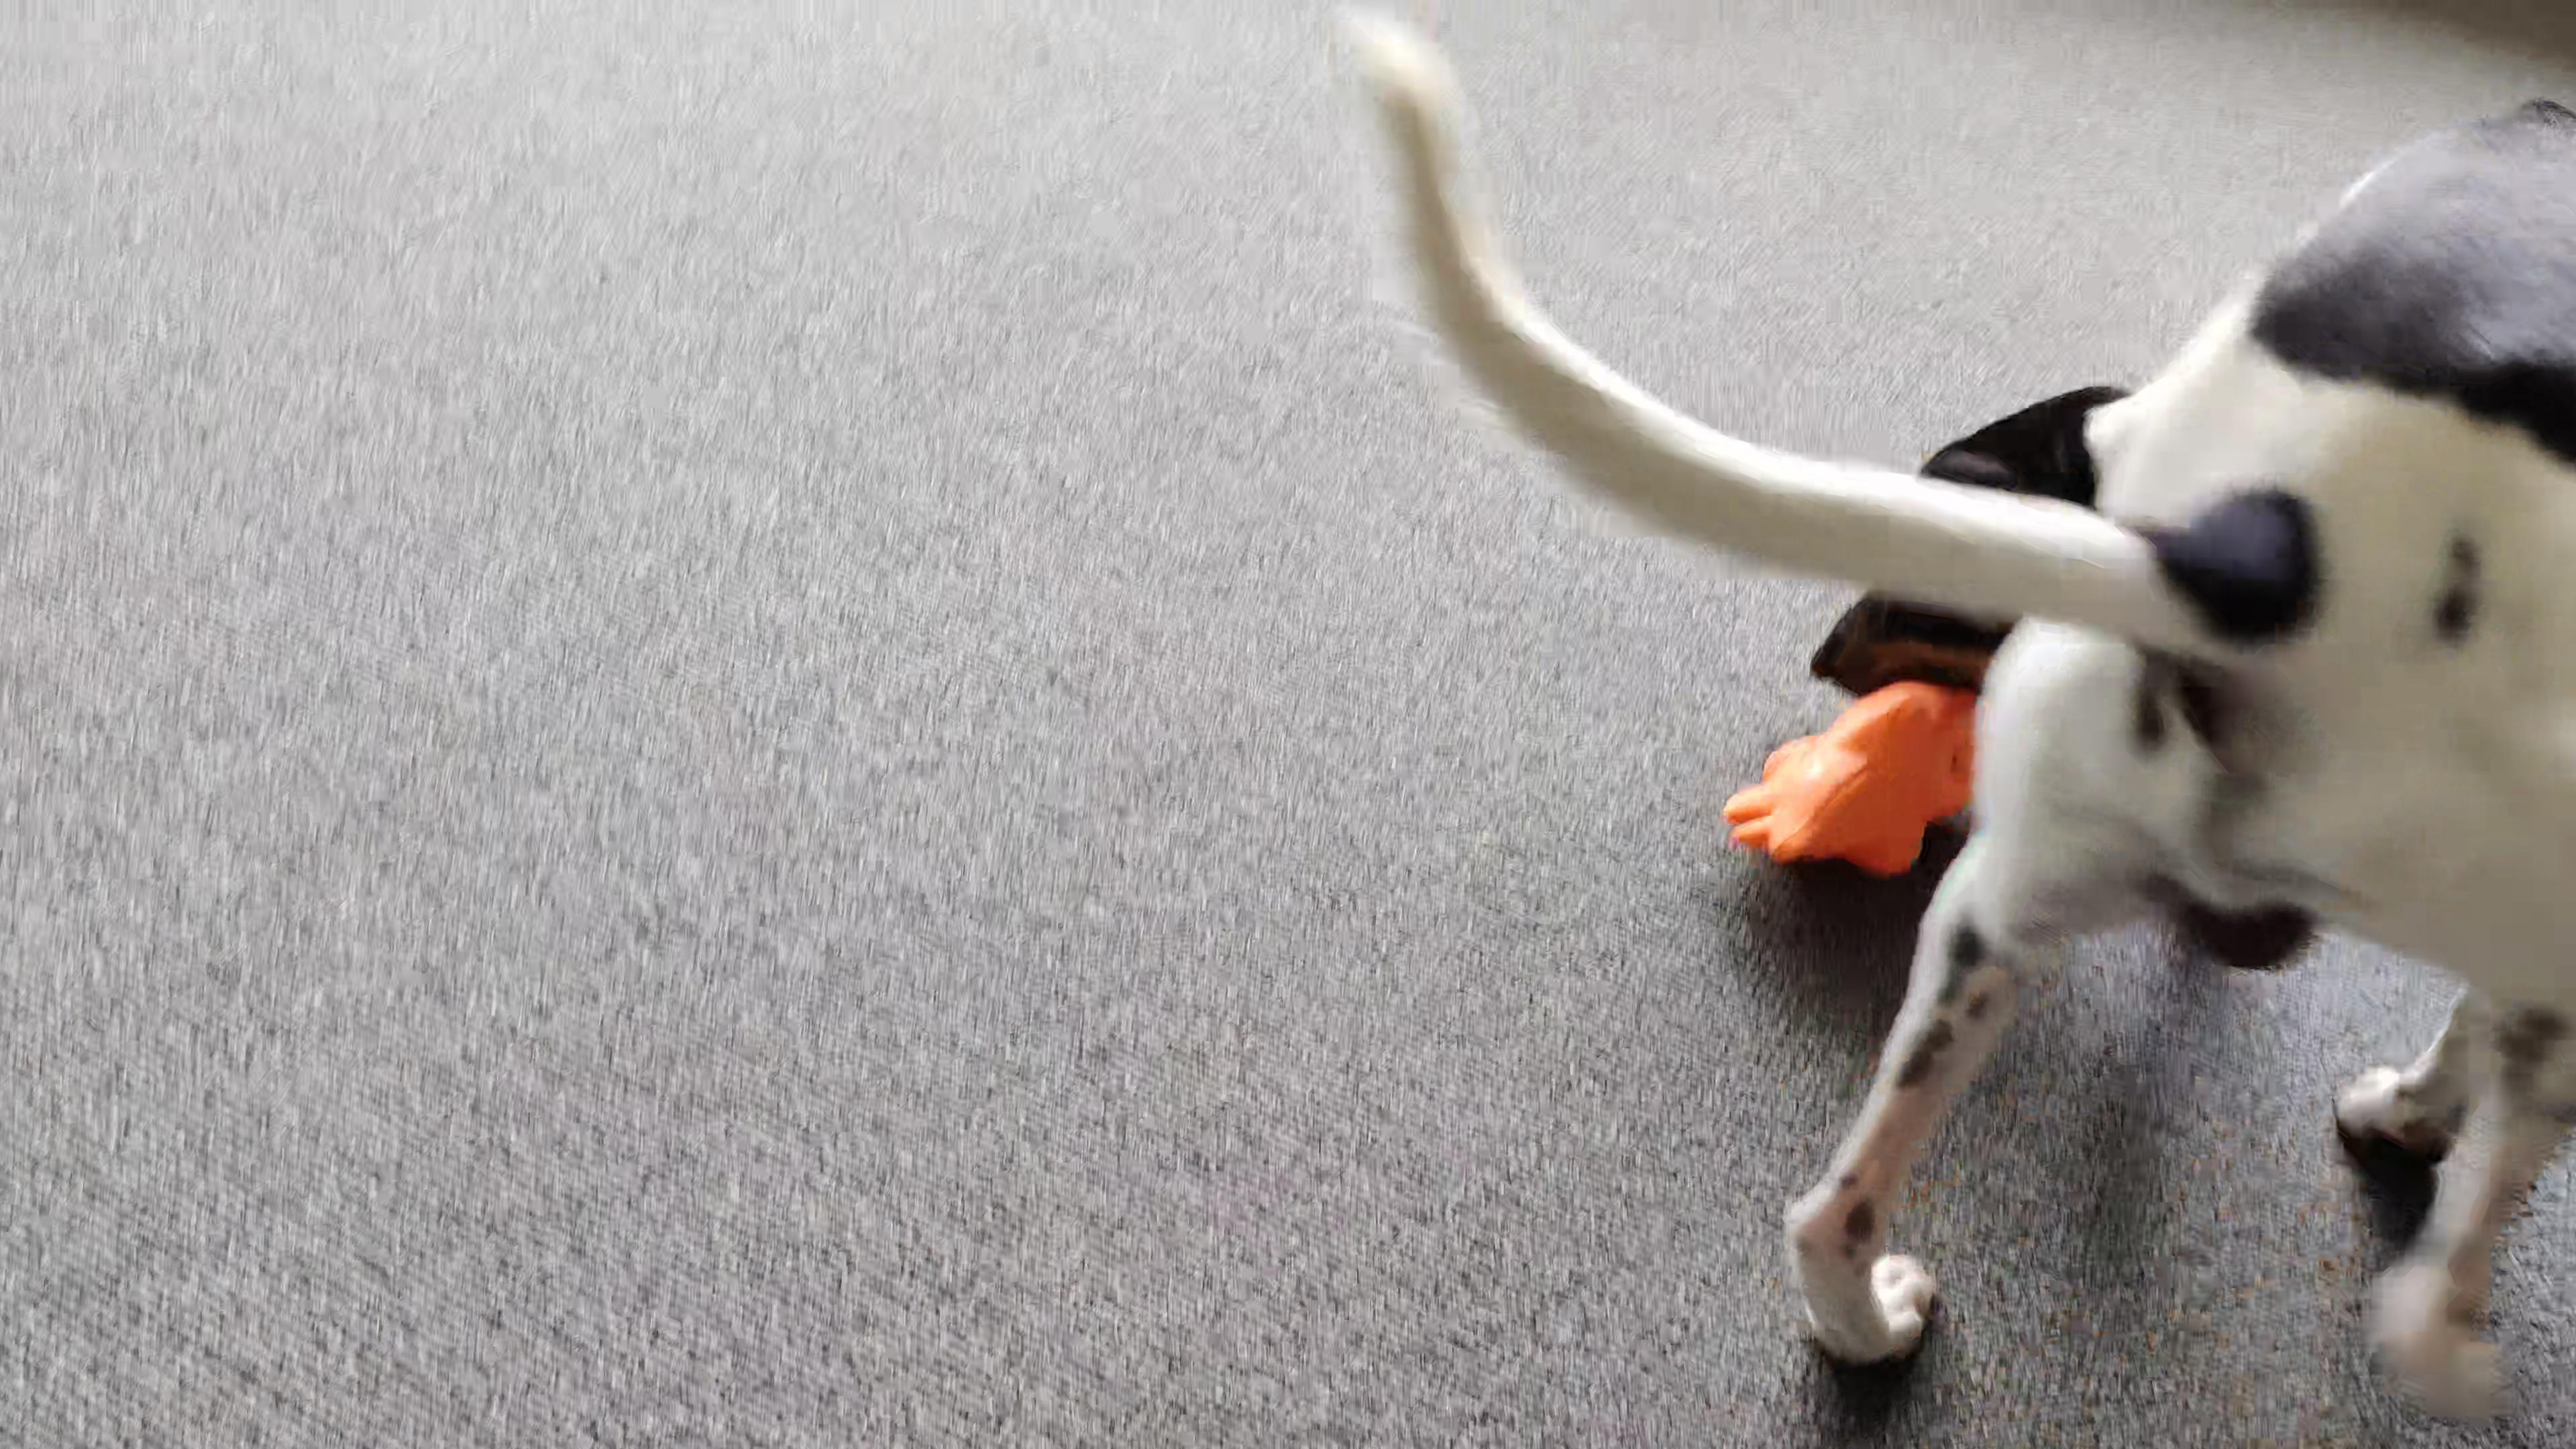Dog: (1330, 12, 2576, 1424)
